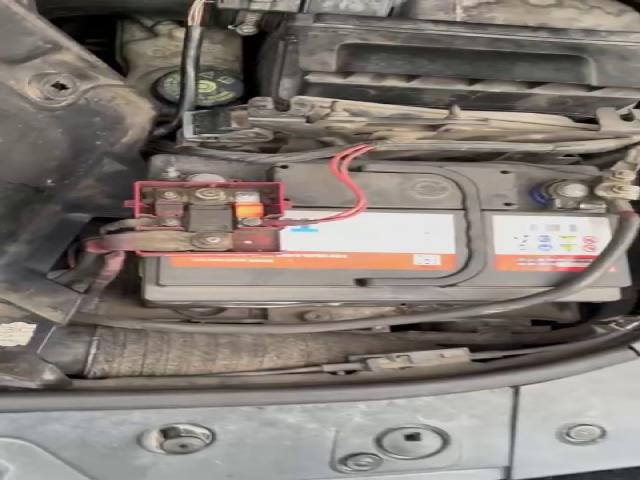accumulator: (95, 153, 636, 307)
